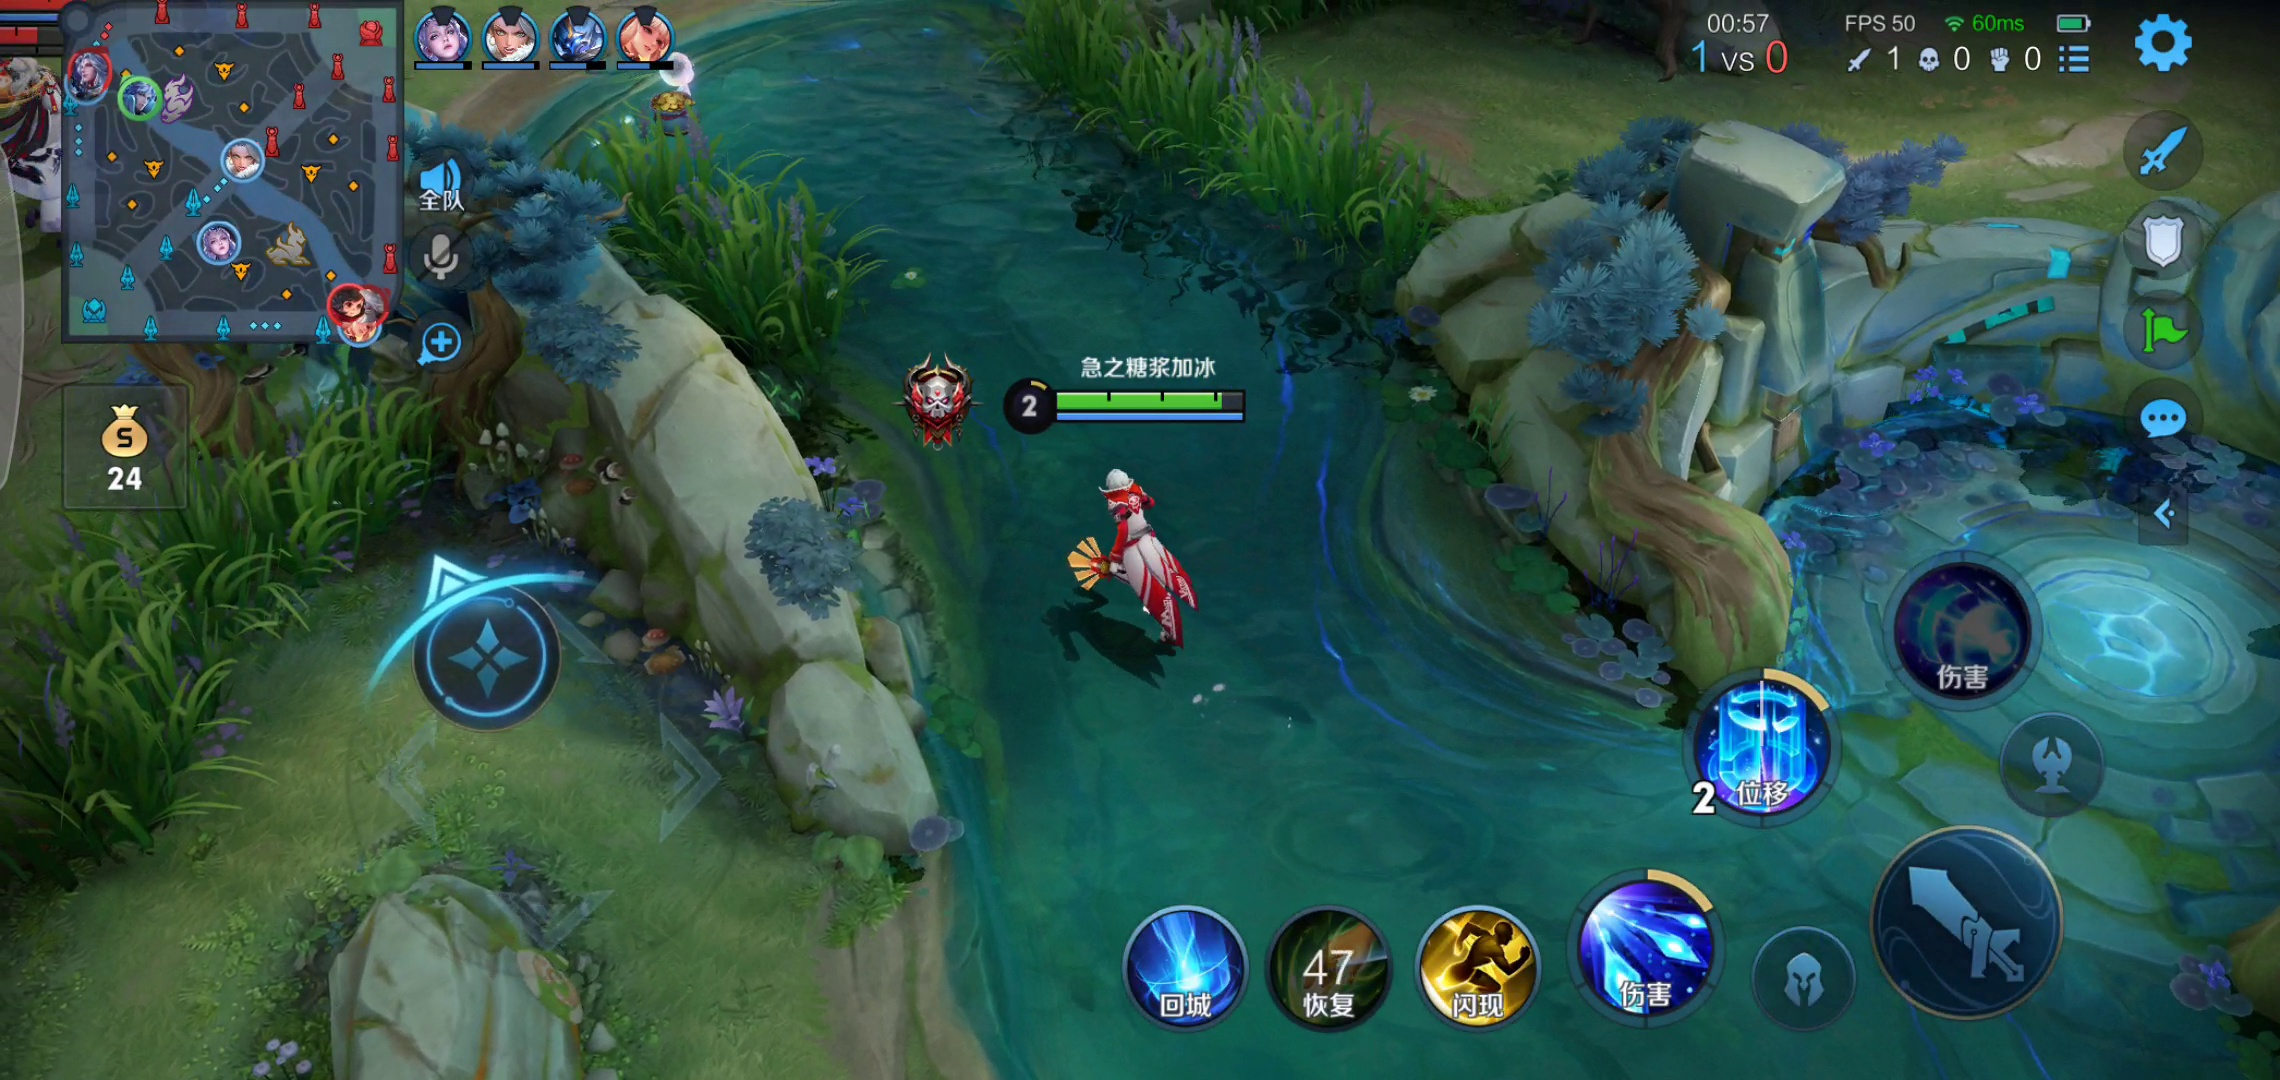grass: (6, 385, 425, 839), (983, 1, 1454, 256), (569, 129, 858, 363)
hero: (1050, 456, 1221, 658), (1, 41, 68, 250)
